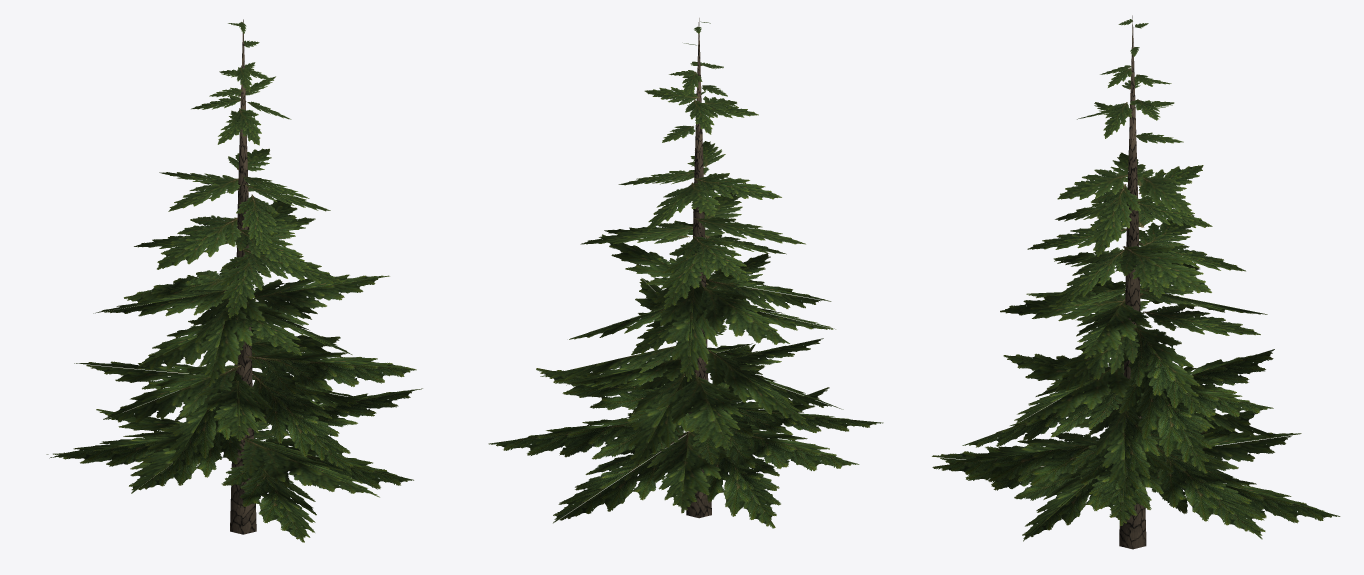
The model's file is pine.glb.
3 views of the same model, side by side, from view 1: azimuth 30°, elevation 25°; view 2: azimuth 150°, elevation 25°; view 3: azimuth 270°, elevation 25° (orthographic). The views are drawn at different scales.
Parts seen in each view (by area): view 1: pine_foliage, pine_trunk; view 2: pine_foliage, pine_trunk; view 3: pine_foliage, pine_trunk.
Part boxes in pixels (<box>): pine_foliage: <box>46,22,422,542</box>; pine_trunk: <box>230,19,256,534</box>; pine_foliage: <box>488,21,883,528</box>; pine_trunk: <box>686,18,711,518</box>; pine_foliage: <box>932,19,1340,541</box>; pine_trunk: <box>1119,15,1146,549</box>.
Size of the model in its own units: 4.47 by 5.95 by 4.39.
2 materials, 2 textured.
